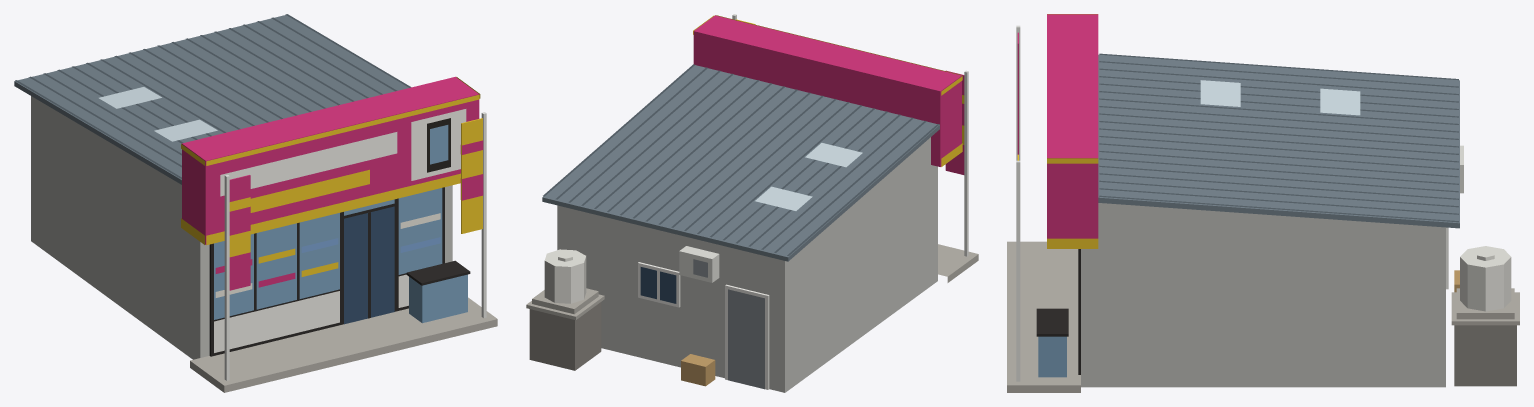
File: toko_05.glb
3 views of the same model, side by side, from view 1: azimuth 30°, elevation 25°; view 2: azimuth 150°, elevation 25°; view 3: azimuth 270°, elevation 25° (orthographic). The views are drawn at different scales.
Visible parts, largest first — view 1: toko_05; view 2: toko_05; view 3: toko_05.
Part boxes in pixels (x1=…): toko_05: x1=14, y1=14, x2=497, y2=392; toko_05: x1=526, y1=14, x2=978, y2=392; toko_05: x1=1007, y1=14, x2=1519, y2=392.
Bounding box in the file's own units: 6 × 4.55 × 9.
